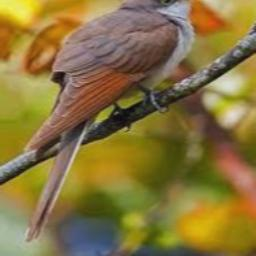Cuckoo: (24, 0, 214, 242)
